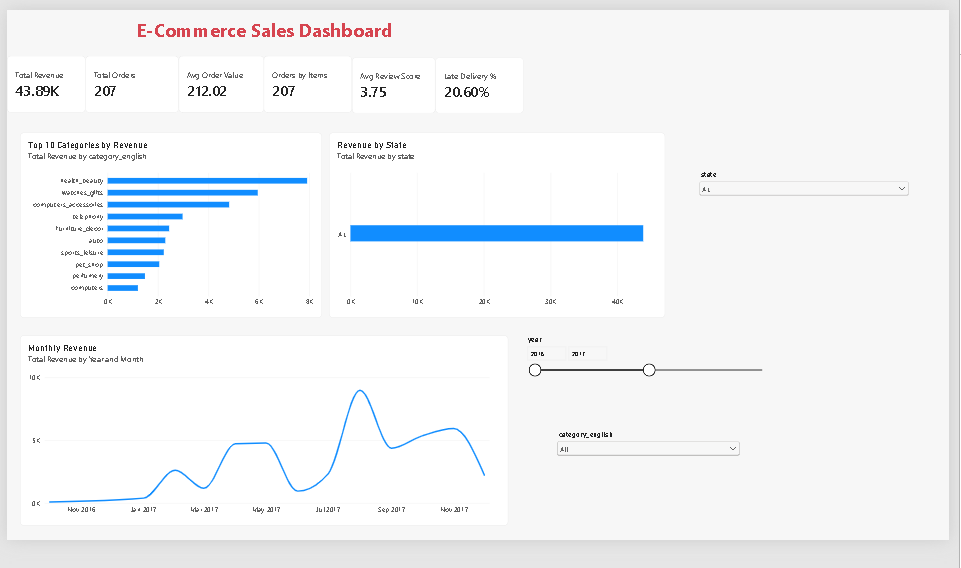

The dashboard page shown, as its layout file describes it:
{"tool":"powerbi","page":{"name":"Sales","canvas":[1920,1080],"ordinal":0},"visuals":[{"type":"cardVisual","fields":{"Data":["fact_order_items.Total Revenue"]},"box":[0,94,160,116],"z":0},{"type":"cardVisual","fields":{"Data":["fact_order_items.Total Orders"]},"box":[160,94,190,116],"z":1000},{"type":"cardVisual","fields":{"Data":["fact_order_items.Avg Order Value"]},"box":[350,94,174,116],"z":2000},{"type":"cardVisual","fields":{"Data":["fact_order_items.Late Delivery %"]},"box":[874,96,180,114],"z":3000},{"type":"cardVisual","fields":{"Data":["fact_order_items.Avg Review Score"]},"box":[704,96,170,114],"z":4000},{"type":"cardVisual","fields":{"Data":["fact_order_items.Orders by Items"]},"box":[524,94,180,116],"z":5000},{"type":"textbox","box":[226,22,596,150],"z":6000},{"type":"lineChart","title":"Monthly Revenue","fields":{"Category":["dim_date.full_date.Variation.Date Hierarchy.Year","dim_date.full_date.Variation.Date Hierarchy.Month"],"Y":["fact_order_items.Total Revenue"]},"box":[26.7,663.3,995,387.5],"z":7000},{"type":"clusteredBarChart","title":"Top 10 Categories by Revenue","fields":{"Category":["dim_product.category_english"],"Y":["fact_order_items.Total Revenue"]},"box":[25,250,615,377.5],"z":8000},{"type":"clusteredBarChart","title":"Revenue by State","fields":{"Category":["dim_customer.state"],"Y":["fact_order_items.Total Revenue"]},"box":[657.5,250,685,377.5],"z":9000},{"type":"slicer","fields":{"Values":["dim_date.year"]},"box":[1053.3,663.3,505,192.5],"z":9001},{"type":"slicer","fields":{"Values":["dim_customer.state"]},"box":[1406.7,326.7,436.7,213.3],"z":9002},{"type":"slicer","fields":{"Values":["dim_product.category_english"]},"box":[1115,857.5,382,198],"z":9003}]}

Visuals, with their boxes on the page's 1920x1080 design canvas (x1, y1, x2, y2). These are canvas units, not pixel positions in the 961x568 screenshot, which may show the page scaled, cropped or inside an application window:
cardVisual - fact_order_items.Total Revenue: {"left": 0, "top": 94, "right": 160, "bottom": 210}
cardVisual - fact_order_items.Total Orders: {"left": 160, "top": 94, "right": 350, "bottom": 210}
cardVisual - fact_order_items.Avg Order Value: {"left": 350, "top": 94, "right": 524, "bottom": 210}
cardVisual - fact_order_items.Late Delivery %: {"left": 874, "top": 96, "right": 1054, "bottom": 210}
cardVisual - fact_order_items.Avg Review Score: {"left": 704, "top": 96, "right": 874, "bottom": 210}
cardVisual - fact_order_items.Orders by Items: {"left": 524, "top": 94, "right": 704, "bottom": 210}
textbox: {"left": 226, "top": 22, "right": 822, "bottom": 172}
"Monthly Revenue" lineChart: {"left": 27, "top": 663, "right": 1022, "bottom": 1051}
"Top 10 Categories by Revenue" clusteredBarChart: {"left": 25, "top": 250, "right": 640, "bottom": 628}
"Revenue by State" clusteredBarChart: {"left": 658, "top": 250, "right": 1342, "bottom": 628}
slicer - dim_date.year: {"left": 1053, "top": 663, "right": 1558, "bottom": 856}
slicer - dim_customer.state: {"left": 1407, "top": 327, "right": 1843, "bottom": 540}
slicer - dim_product.category_english: {"left": 1115, "top": 858, "right": 1497, "bottom": 1056}
